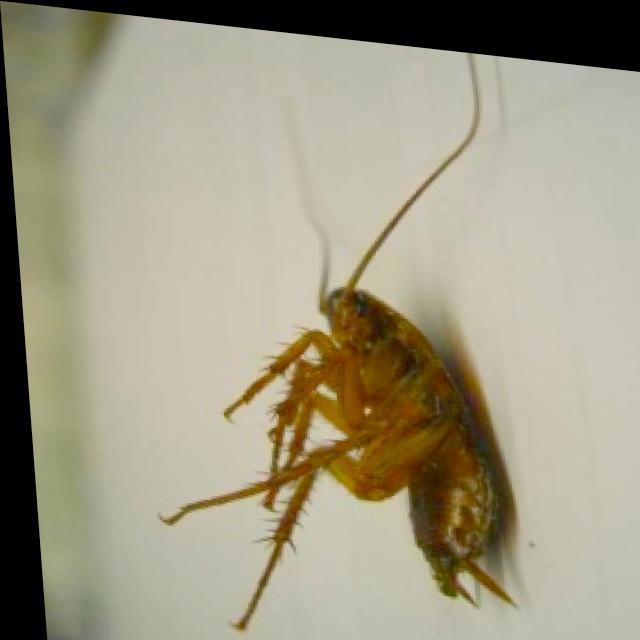cockroach: (156, 53, 527, 632)
